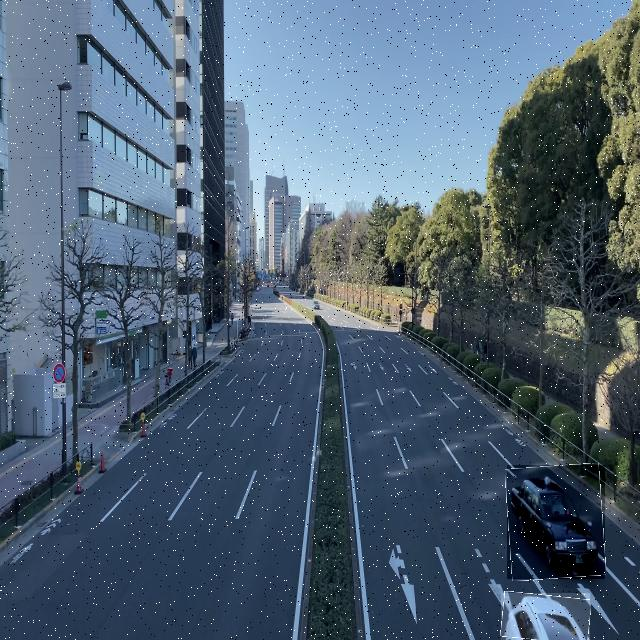Car: (507, 465, 605, 579), (501, 593, 590, 640)
